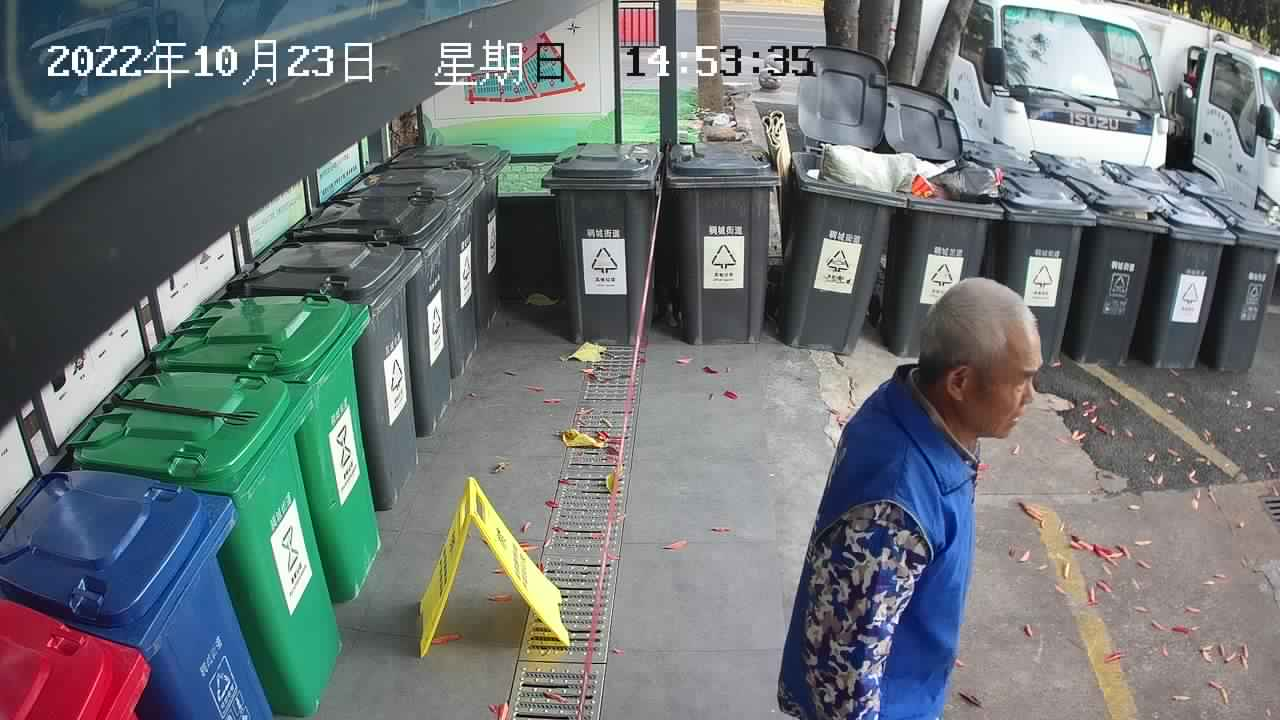worker: (769, 274, 1050, 720)
